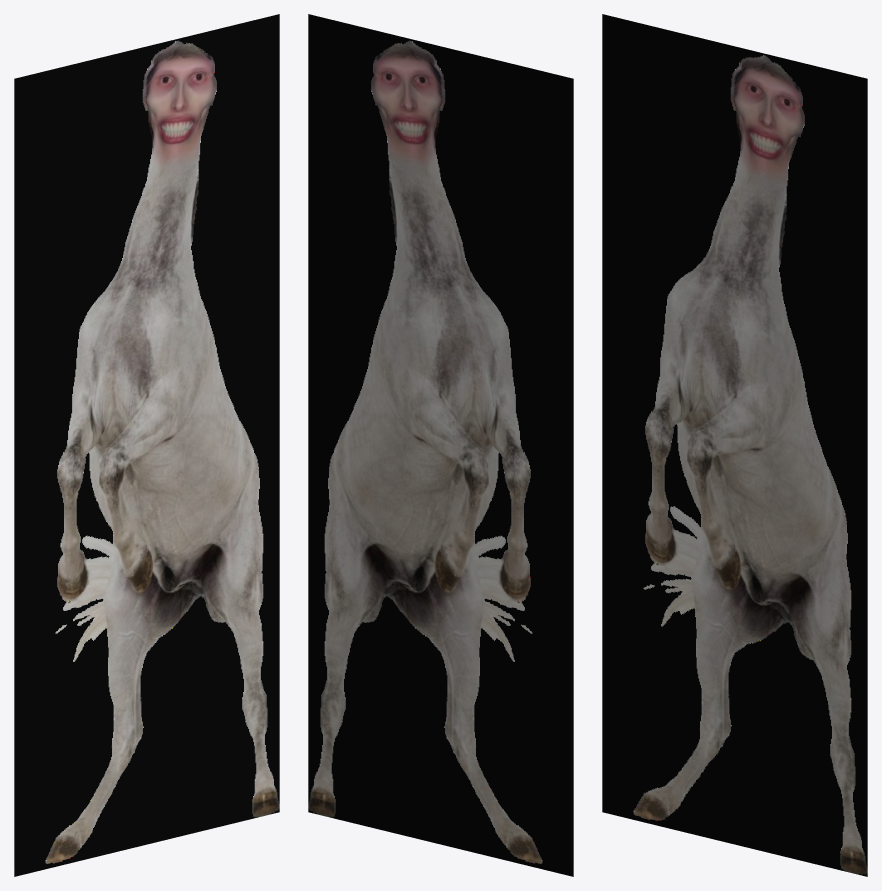
The model's file is 观察怪Max平面.gltf.
The picture shows the model from 3 angles, left to right: view 1: azimuth 30°, elevation 25°; view 2: azimuth 150°, elevation 25°; view 3: azimuth 330°, elevation 25°; orthographic projection.
Visible parts, largest first — view 1: 平面; view 2: 平面; view 3: 平面.
Part boxes in pixels (x1,y1,x2,y2): 平面: [14, 14, 279, 876]; 平面: [308, 14, 573, 876]; 平面: [602, 14, 867, 876].
Bounding box in the file's own units: 2 × 5.75 × 5.56e-14.
Materials: 1 (1 with a texture image).
